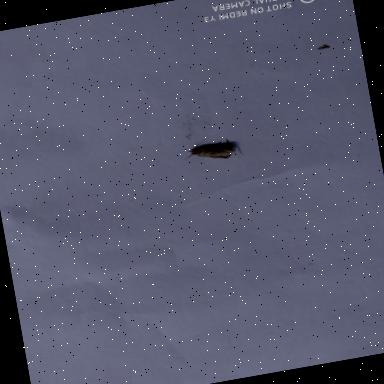pbw: (178, 132, 244, 170)
